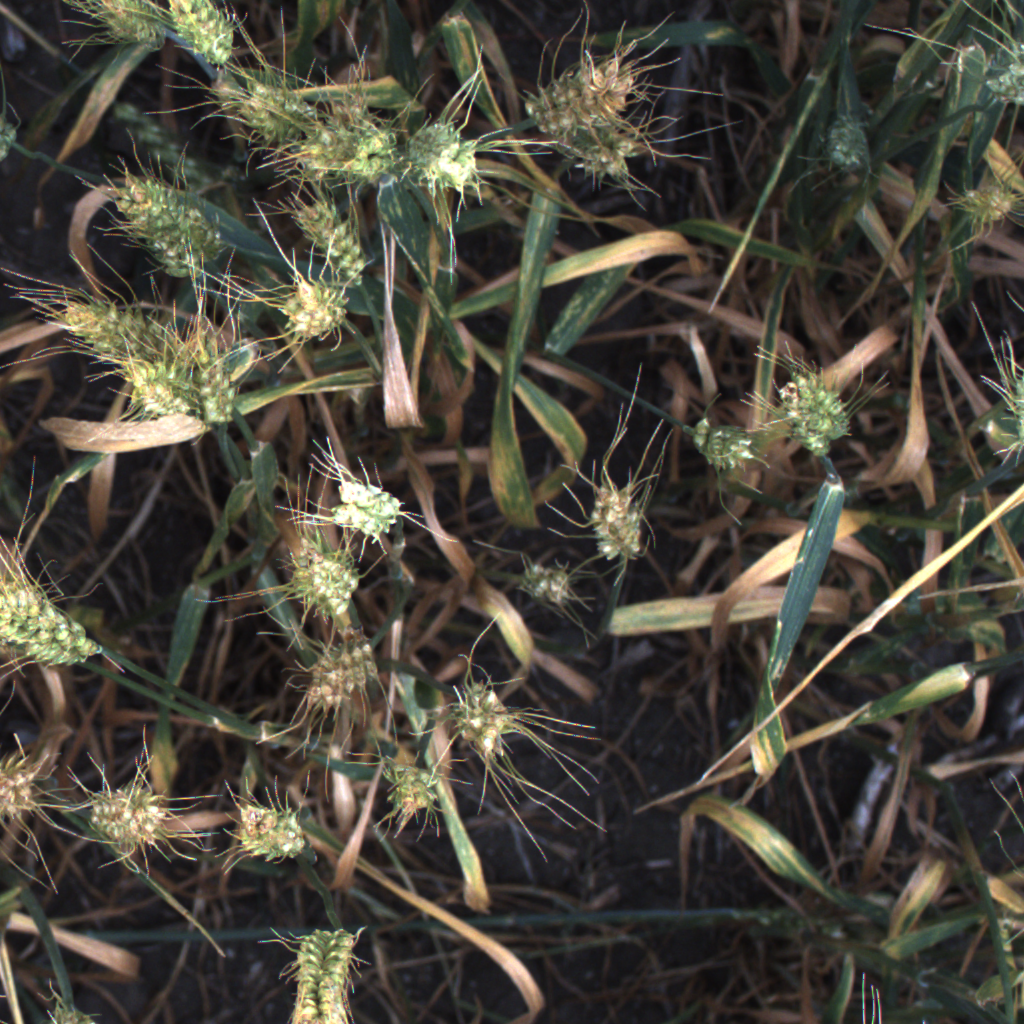wheat_head: (519, 36, 651, 140), (569, 458, 668, 581), (101, 175, 229, 267), (46, 289, 184, 371), (286, 181, 379, 295), (77, 768, 183, 864), (214, 787, 331, 868), (276, 922, 365, 1024), (772, 358, 858, 460), (358, 0, 458, 87), (811, 90, 884, 207), (536, 116, 668, 180), (269, 262, 359, 355), (229, 75, 327, 155), (436, 669, 520, 762), (1, 579, 101, 655), (292, 637, 385, 717), (370, 741, 456, 827), (286, 541, 377, 622), (103, 352, 202, 426), (154, 0, 253, 72), (670, 407, 767, 480), (324, 467, 410, 543), (410, 119, 488, 202), (191, 340, 253, 437), (0, 607, 87, 674), (940, 171, 1023, 241), (955, 43, 1024, 123), (80, 0, 173, 59), (293, 107, 365, 180), (0, 738, 52, 831), (136, 215, 208, 282), (346, 118, 412, 186), (516, 551, 586, 607), (990, 358, 1024, 456)
